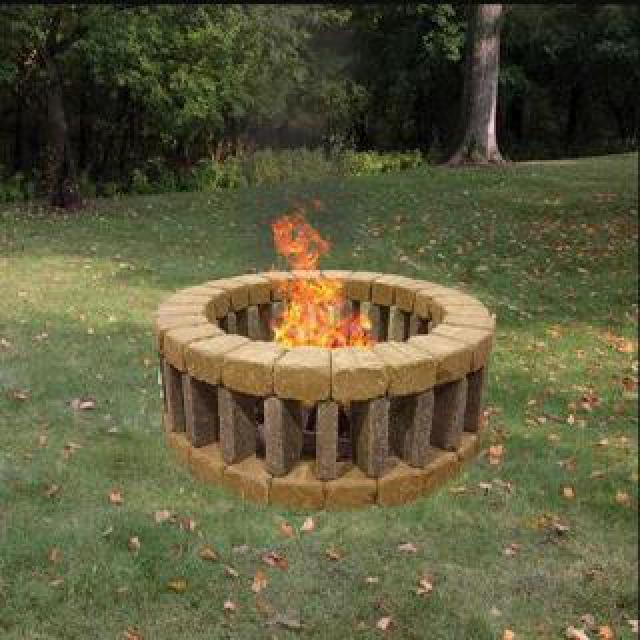Fire: (268, 230, 356, 342)
Smoke: (258, 156, 354, 228)
